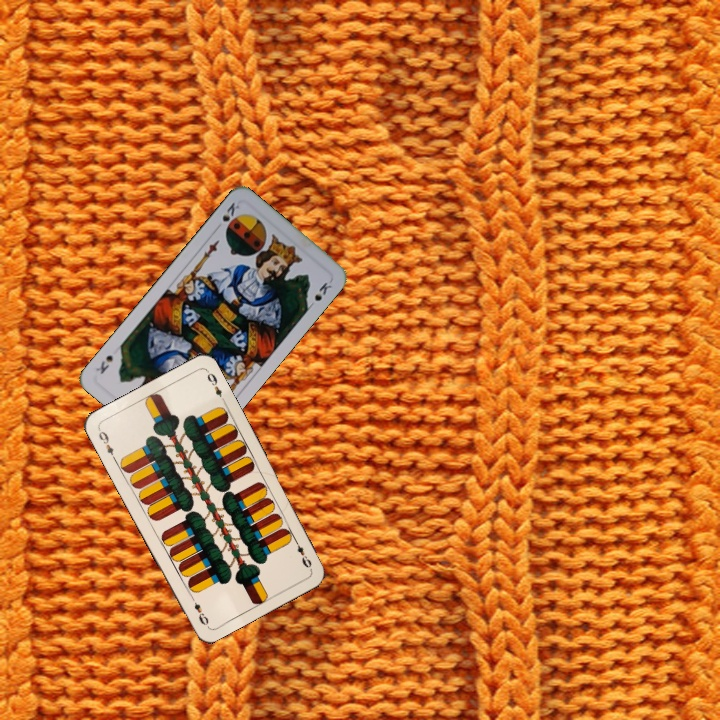E9: (94, 425, 119, 463), (290, 534, 314, 571)
SK: (211, 198, 242, 233)
